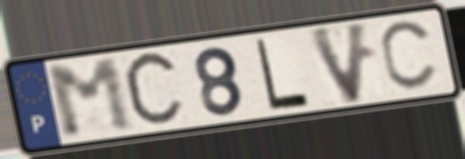8: (192, 44, 247, 119)
C: (120, 46, 188, 134), (377, 17, 441, 94)
L: (253, 36, 312, 112)
M: (42, 54, 139, 142)
V: (304, 18, 373, 108)
